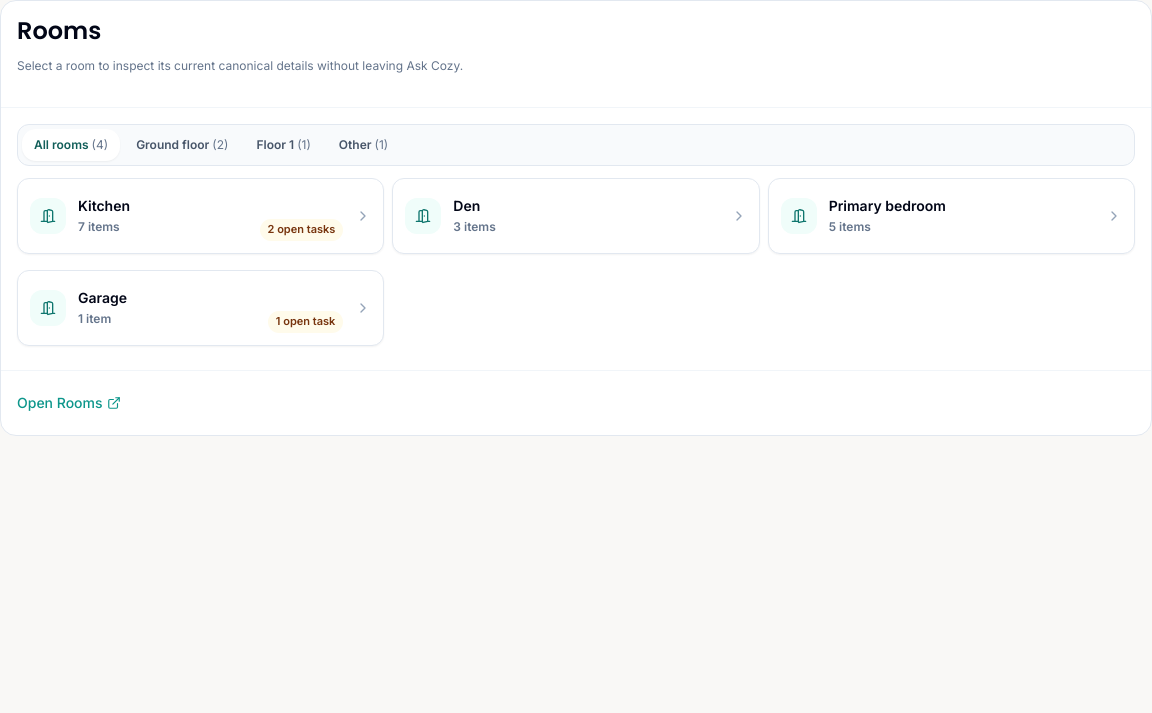
it: a viewer can inspect a room item but receives no inventory write or evidence controls
The width and height of the screenshot is (1152, 713).
Click the button "Kitchen 7 items 2 open tasks". click: (48, 216)
box: [17,178,384,254]
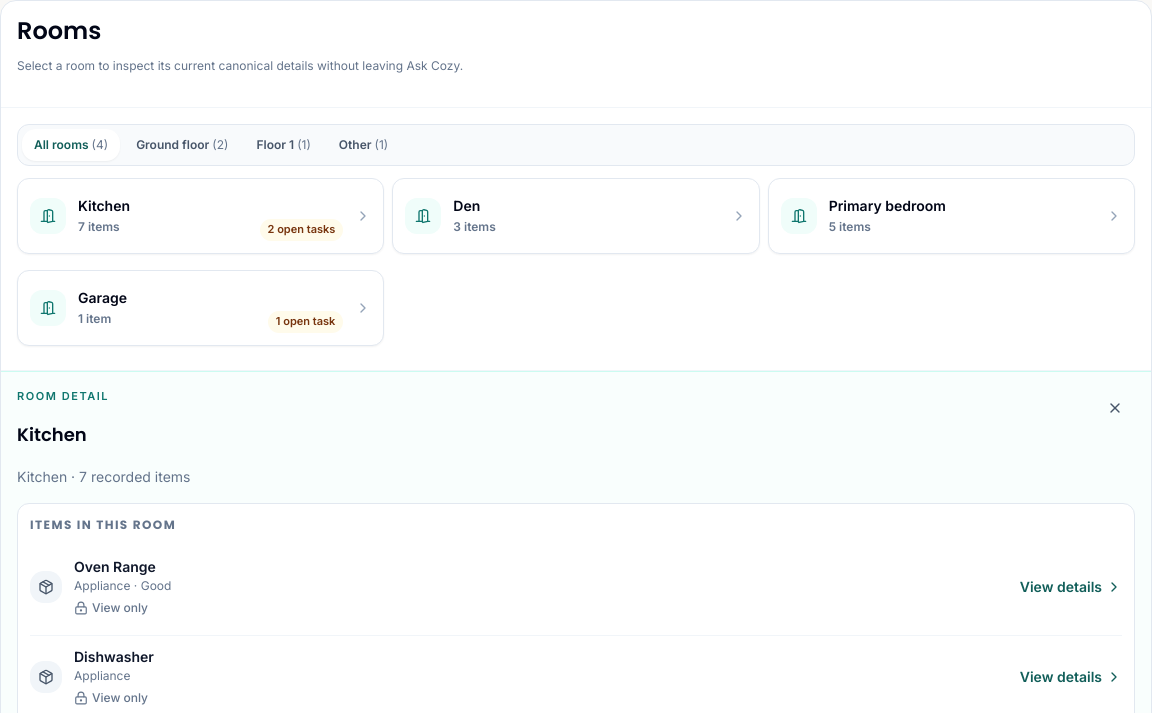
Expected: the text "View only" is shown 2 times, [74,600,148,615]; [74,690,148,705]
Click the button with aria-label "View details for Oven Range". click: (1071, 587)
box: [1020,567,1122,607]
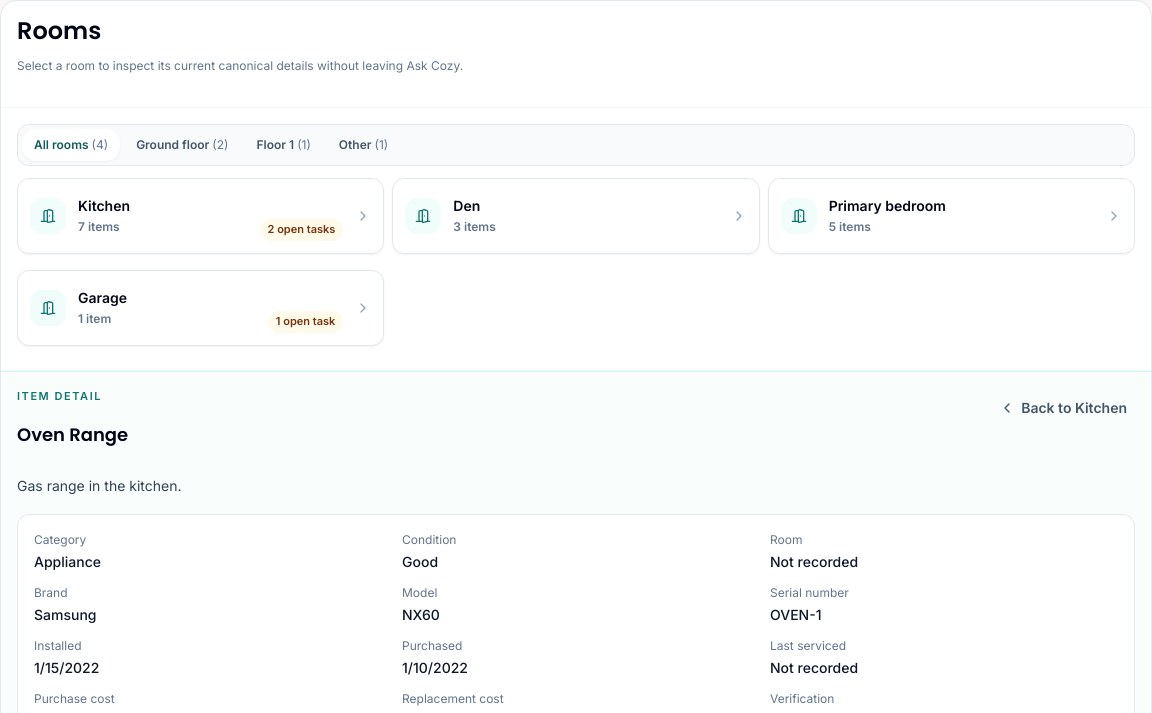
Expected: the text "Gas range in the kitchen." is shown, [17,477,182,494]
